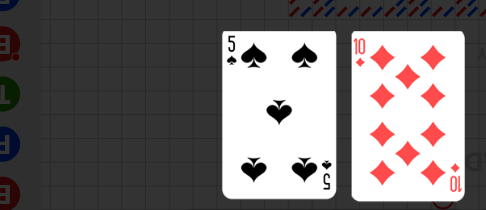10D: (449, 161, 462, 193)
5S: (226, 34, 238, 67)
